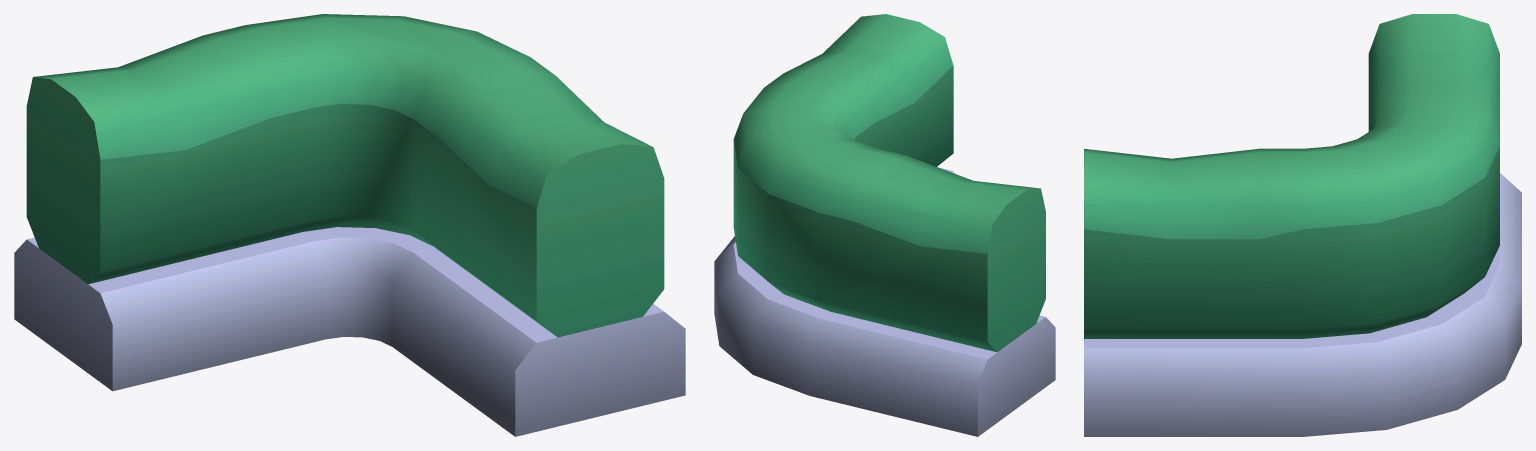
The model's file is hedge-large-curved.glb.
3 renders of one model, left to right at view 1: azimuth 30°, elevation 25°; view 2: azimuth 150°, elevation 25°; view 3: azimuth 270°, elevation 25°, orthographic. The views are drawn at different scales.
Visible parts, largest first — view 1: hedge-large-curved; view 2: hedge-large-curved; view 3: hedge-large-curved.
Boxes of the visible parts, x1,y1,x2,y2 form: hedge-large-curved: (14,14,685,436); hedge-large-curved: (714,14,1055,436); hedge-large-curved: (1084,14,1521,436).
Size of the model in its own units: 1 by 0.6 by 1.
Materials: 1 (1 with a texture image).
